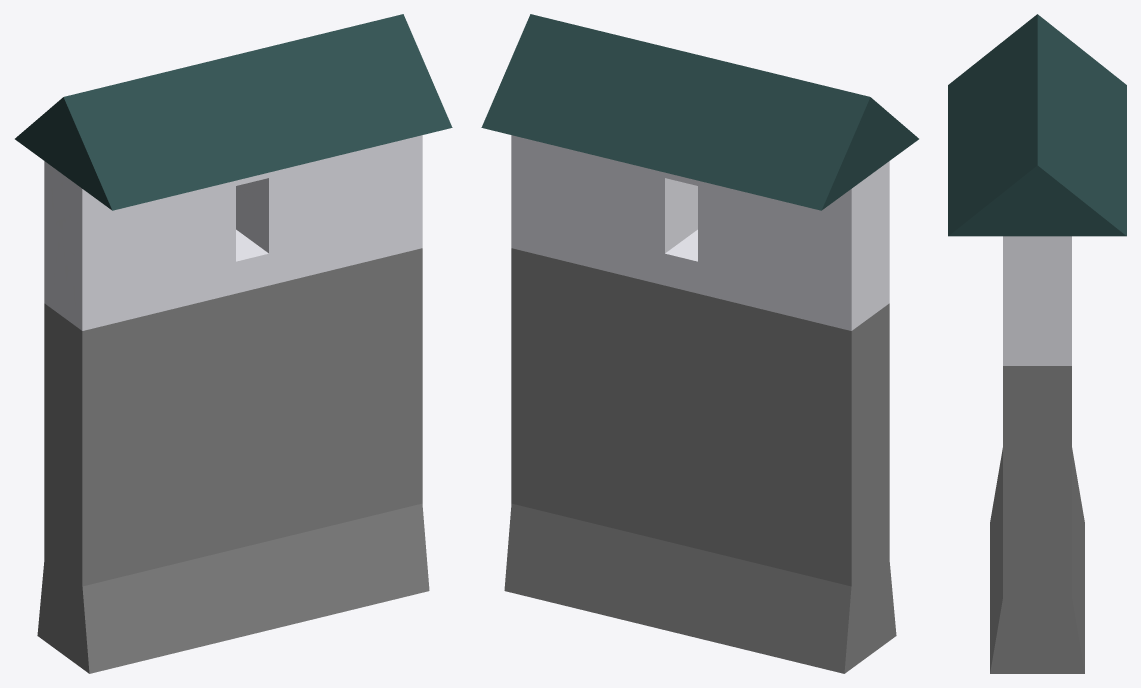
File: Asian_Prop_Building_Fence_Wall_High_Small_Embrasure_01.FBX
The picture shows the model from 3 angles, left to right: view 1: azimuth 30°, elevation 25°; view 2: azimuth 150°, elevation 25°; view 3: azimuth 270°, elevation 25°; orthographic projection. The views are drawn at different scales.
Visible parts, largest first — view 1: Asian_Prop_Building_Fence_Wall_High_Small_Embrasure_01; view 2: Asian_Prop_Building_Fence_Wall_High_Small_Embrasure_01; view 3: Asian_Prop_Building_Fence_Wall_High_Small_Embrasure_01.
Boxes of the visible parts, x1,y1,x2,y2 form: Asian_Prop_Building_Fence_Wall_High_Small_Embrasure_01: (15,14,452,673); Asian_Prop_Building_Fence_Wall_High_Small_Embrasure_01: (481,14,918,673); Asian_Prop_Building_Fence_Wall_High_Small_Embrasure_01: (948,14,1126,673).
Size of the model in its own units: 2584 by 4051 by 1290.
